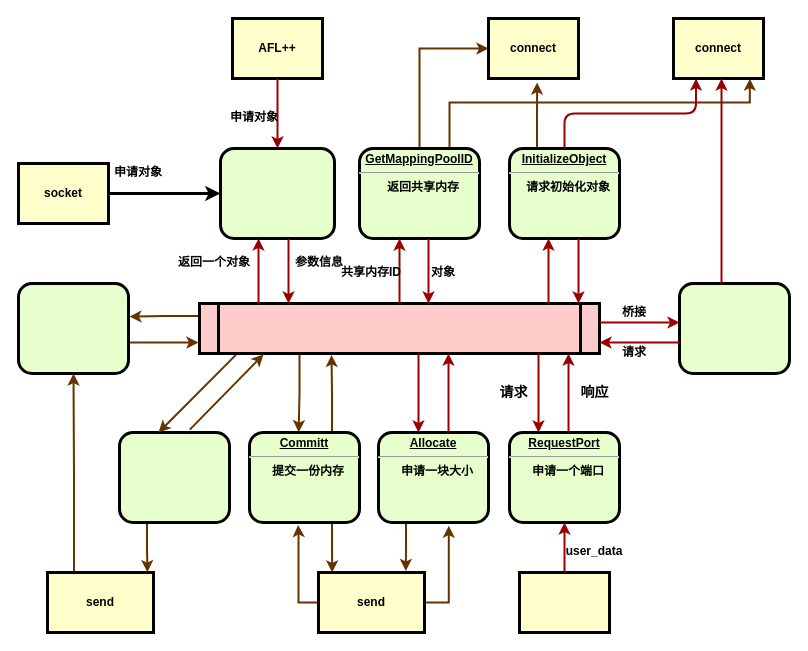
This 808x651 diagram has some shape labels left out. Each missing label, with the centre of its shape:
ApplicationObject 申请一个对象: the point at 277,193
bind: the point at 564,602
ConnectToServer 桥接对象: the point at 734,328
Duplex network emulator: the point at 399,328
GetMessage 获取一份消息: the point at 174,477
Release 释放一块内存块: the point at 73,328
